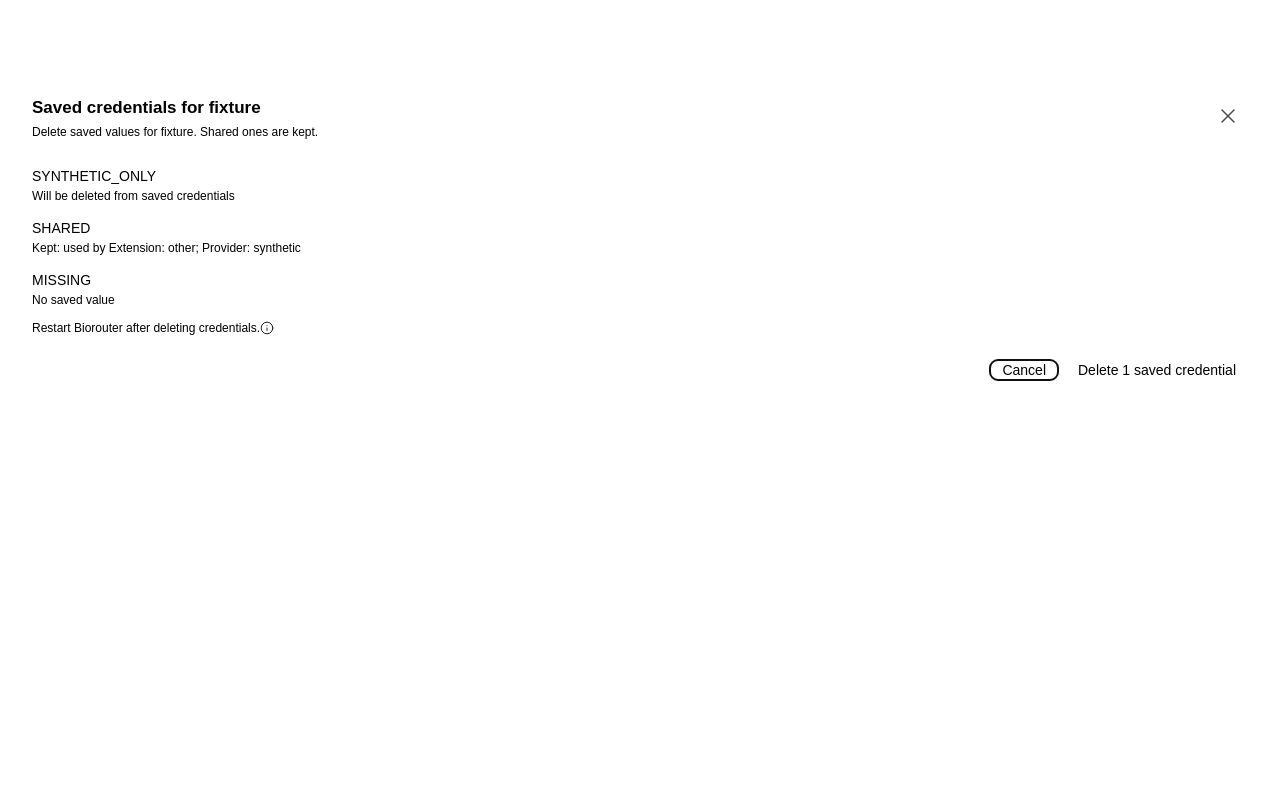
Test case: extension credential deletion › reviews retention and deletes only saved unshared keys with user proof
The image size is (1280, 800).
Expected: the text "Kept: used by Extension: other; Provider: synthetic" is shown, [32,241,301,255]
Expected: the text "No saved value" is shown, [32,293,115,307]
Click the button "Delete 1 saved credential": {"x": 1157, "y": 370} [1066,360,1248,380]
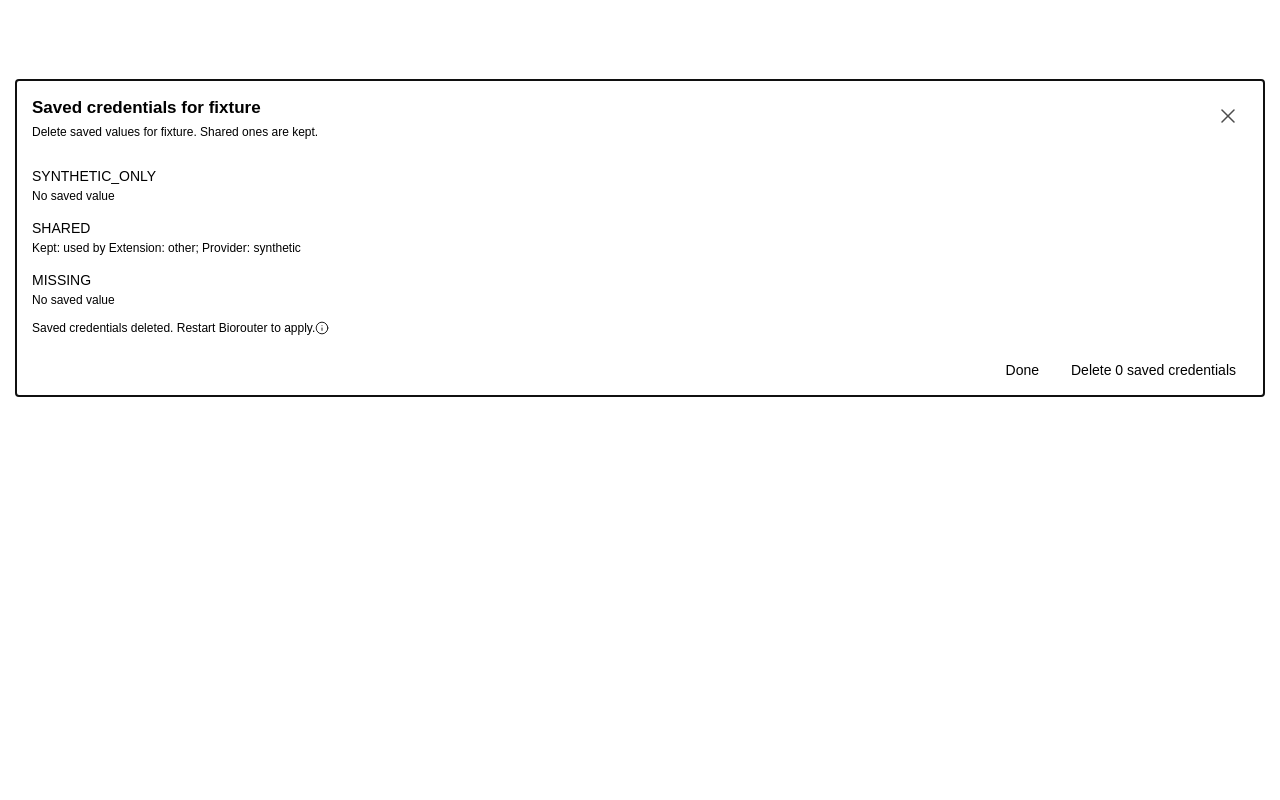
Expected: the text "Saved credentials deleted. Restart Biorouter to apply." is shown, [31,321,610,342]
Expected: the text "Restart Biorouter after deleting credentials." is gone
Expected: the button "Delete 0 saved credentials" is disabled, [1059,360,1248,380]
